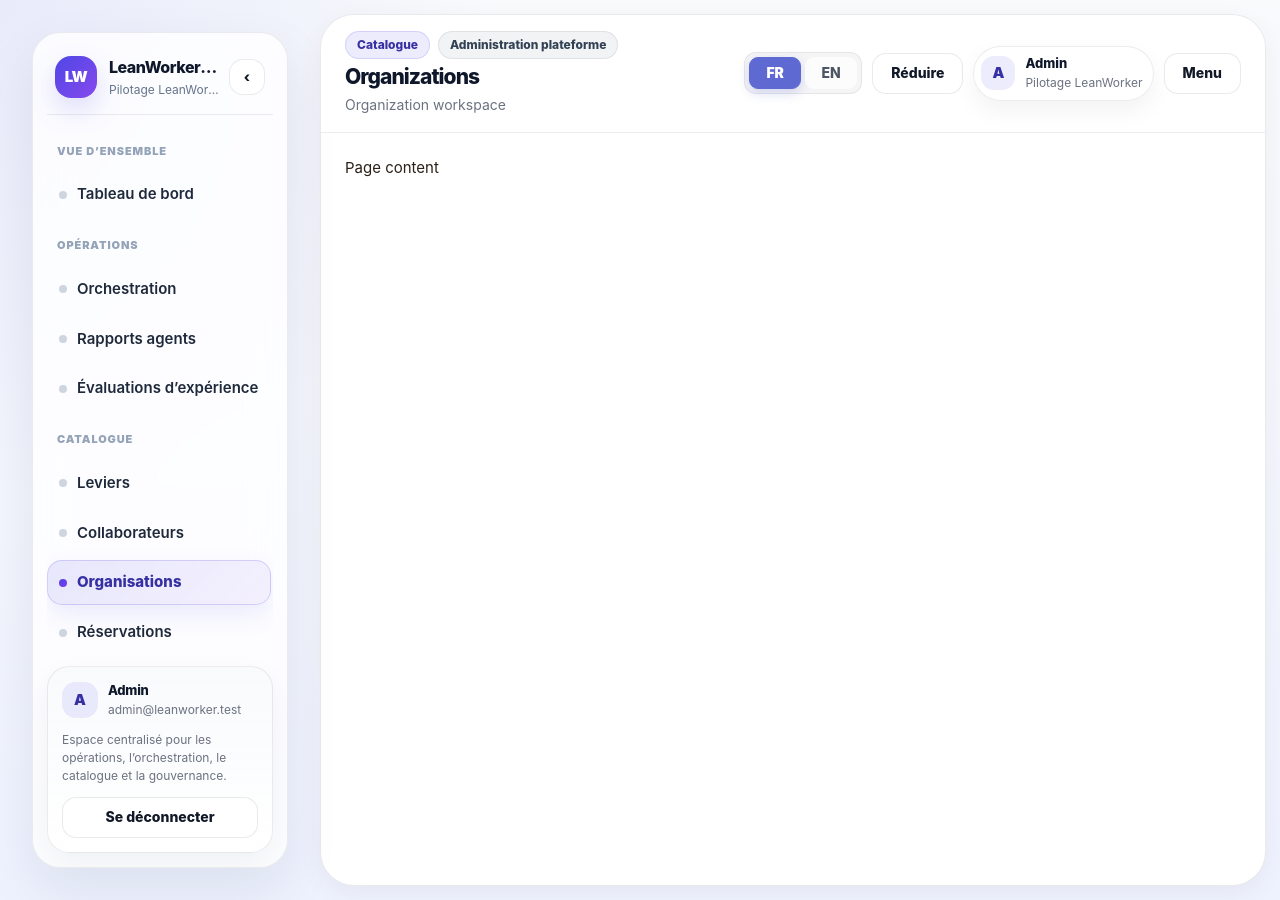
it: AdminShell internationalization › switches the complete admin shell to English and persists the choice
The image size is (1280, 900).
Click the button with aria-label "English".
click(831, 73)  # box [805,57,857,89]
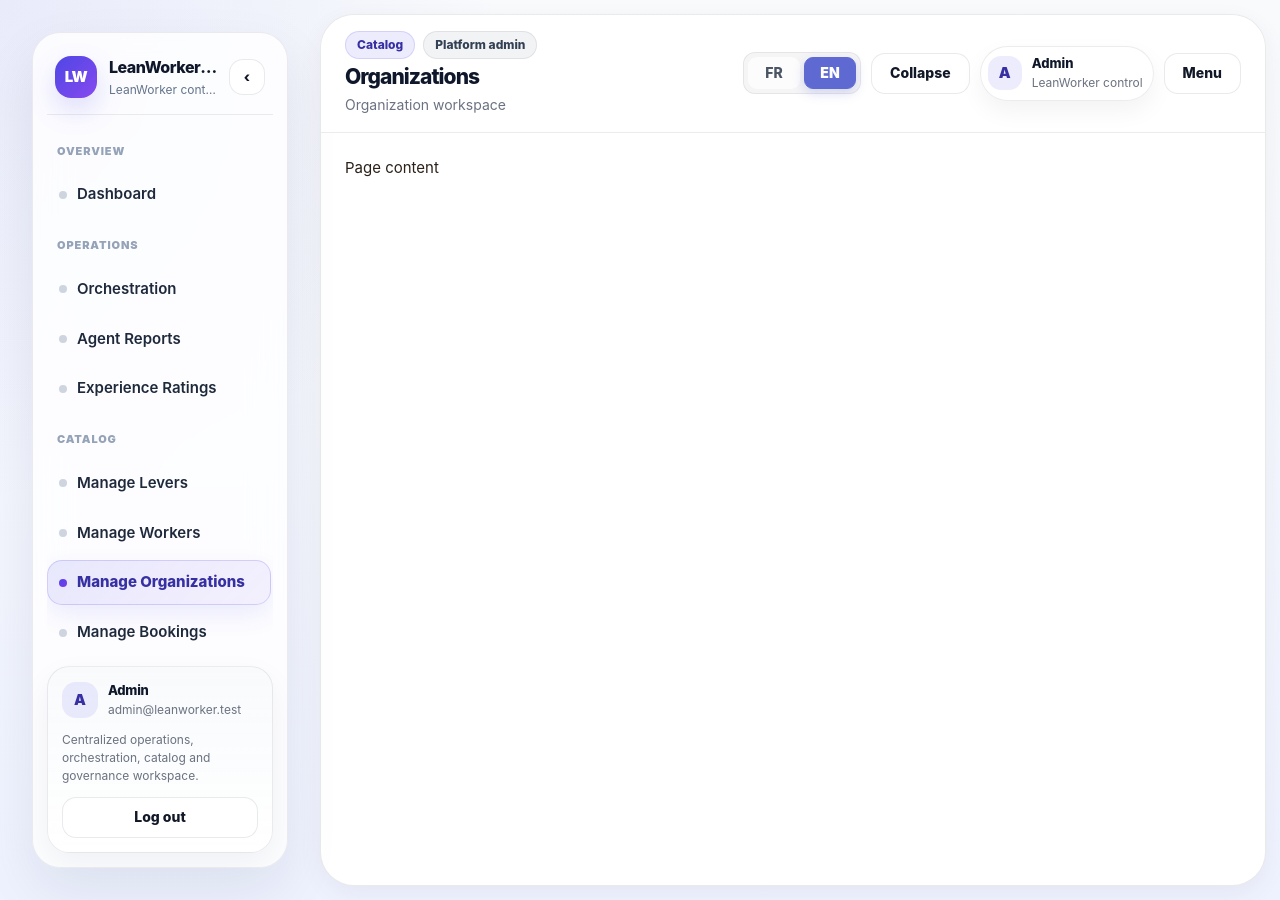
Expected: the text "Overview" is shown, [57,144,125,158]
Expected: the link "Manage Organizations" is shown, [47,560,271,605]
Expected: the button "Log out" is shown, [62,797,258,838]
